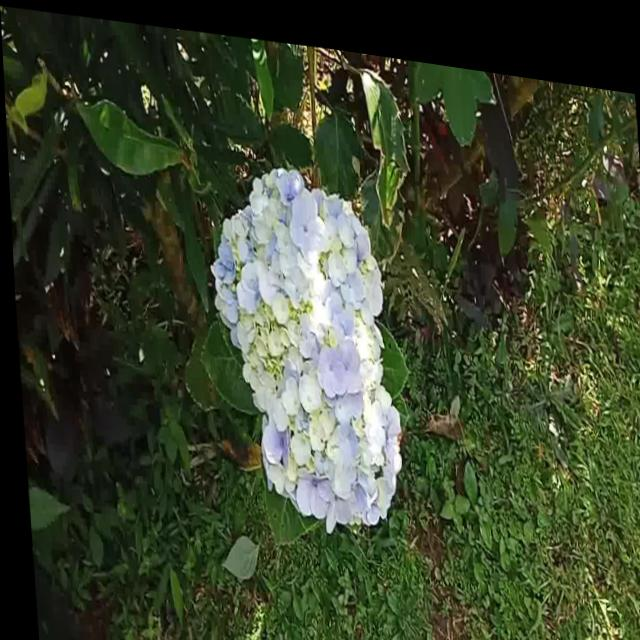Flower: (203, 140, 403, 528)
